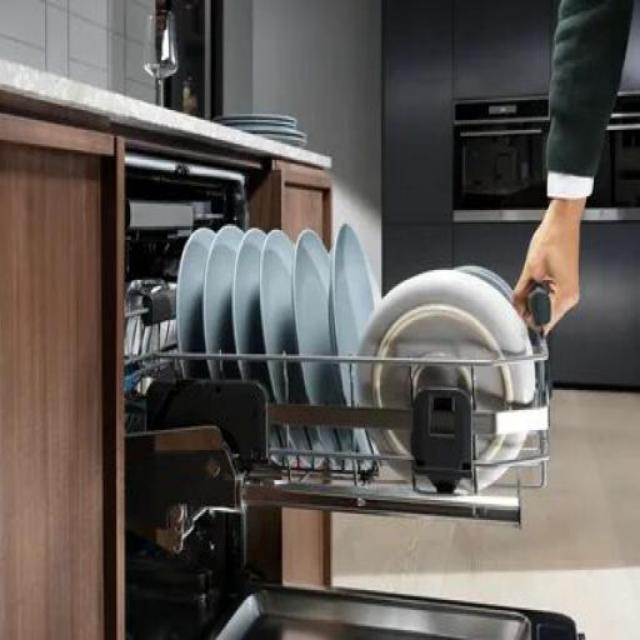Oven: (464, 100, 552, 214), (572, 91, 636, 209)
